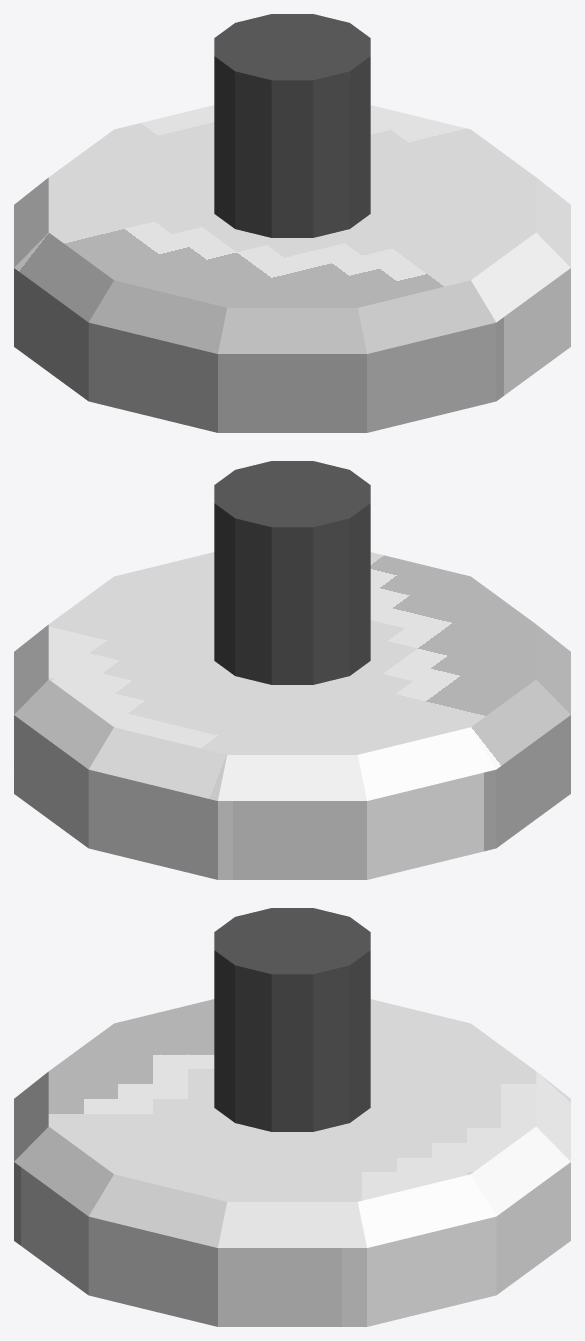
The model's file is lamp_model.fbx.
3 renders of one model, top to bottom at view 1: azimuth 30°, elevation 25°; view 2: azimuth 150°, elevation 25°; view 3: azimuth 270°, elevation 25°, orthographic.
Parts seen in each view (by area): view 1: cylinder; view 2: cylinder; view 3: cylinder.
Boxes of the visible parts, bbox=[...] form: cylinder: bbox=[14, 14, 570, 432]; cylinder: bbox=[14, 461, 570, 879]; cylinder: bbox=[14, 908, 570, 1326].
Bounding box in the file's own units: 100 × 53.12 × 100.
Materials: 1 (1 with a texture image).
